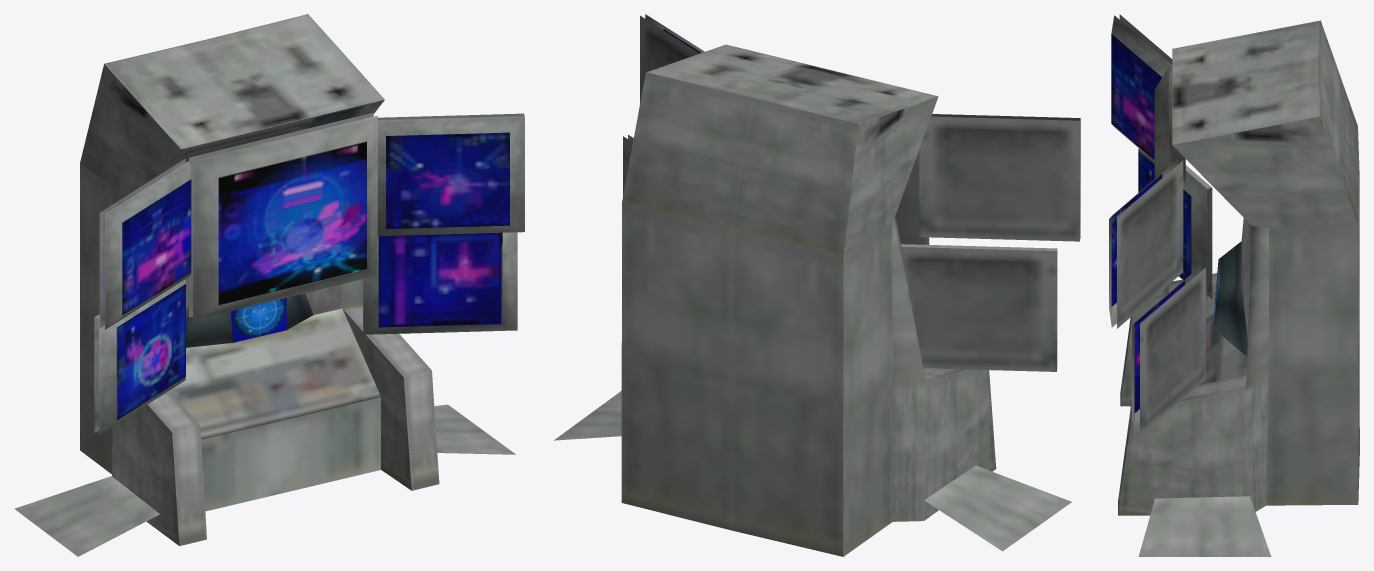
Rendered from eqp_starship_mfg_station_m_s1_l4.fbx.
The picture shows the model from 3 angles, left to right: view 1: azimuth 30°, elevation 25°; view 2: azimuth 150°, elevation 25°; view 3: azimuth 270°, elevation 25°; orthographic projection. The views are drawn at different scales.
Parts seen in each view (by area): view 1: mesh_node; view 2: mesh_node; view 3: mesh_node.
Boxes of the visible parts, x1=… form: mesh_node: x1=14, y1=14, x2=524, y2=556; mesh_node: x1=554, y1=14, x2=1080, y2=556; mesh_node: x1=1109, y1=14, x2=1359, y2=556.
Bounding box in the file's own units: 3.52 × 3.09 × 1.82.
